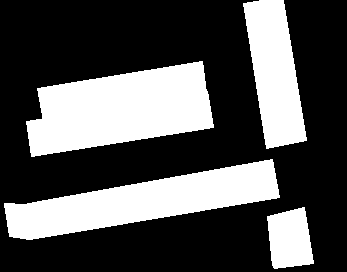parkingspot: (4, 159, 279, 239), (26, 91, 213, 156), (37, 61, 206, 121), (243, 0, 306, 148), (267, 207, 313, 268)
